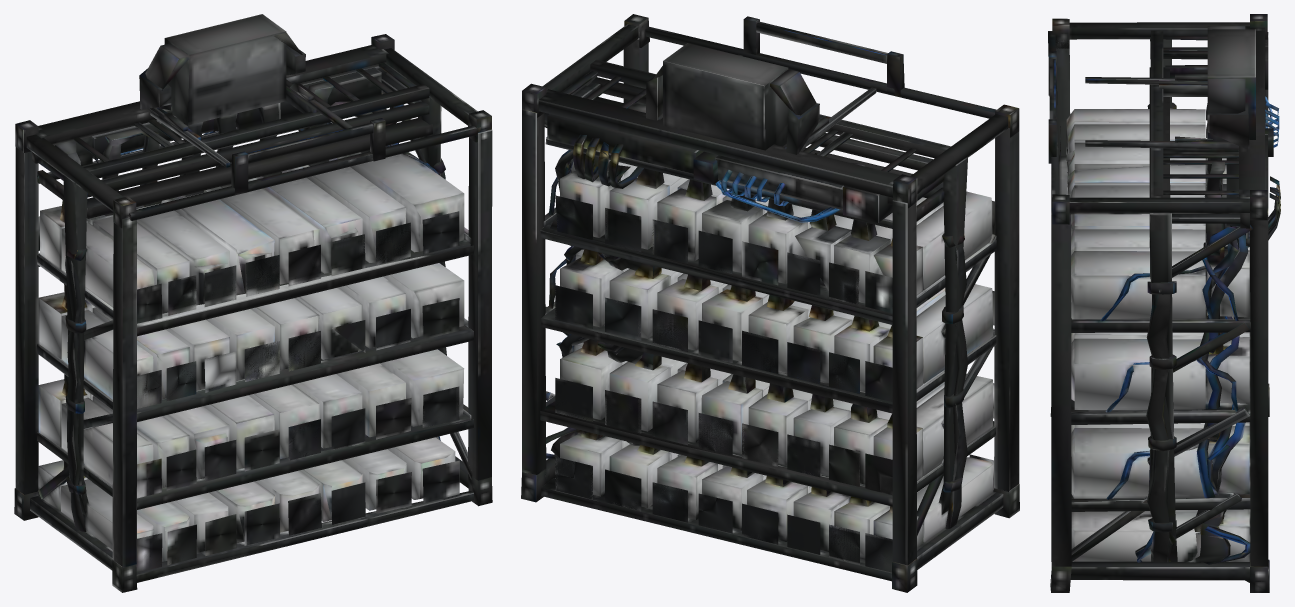
Rendered from asic_miner_rack.glb.
3 renders of one model, left to right at view 1: azimuth 30°, elevation 25°; view 2: azimuth 150°, elevation 25°; view 3: azimuth 270°, elevation 25°, orthographic. The views are drawn at different scales.
Parts seen in each view (by area): view 1: Meshy_AI_asic_miner_rack_3d_20261028_texture; view 2: Meshy_AI_asic_miner_rack_3d_20261028_texture; view 3: Meshy_AI_asic_miner_rack_3d_20261028_texture.
Part boxes in pixels (bbox=[...]): Meshy_AI_asic_miner_rack_3d_20261028_texture: bbox=[14, 14, 492, 592]; Meshy_AI_asic_miner_rack_3d_20261028_texture: bbox=[521, 14, 1019, 592]; Meshy_AI_asic_miner_rack_3d_20261028_texture: bbox=[1048, 14, 1280, 592].
Size of the model in its own units: 1.76 by 2 by 0.9344.
1 material, 1 textured.
